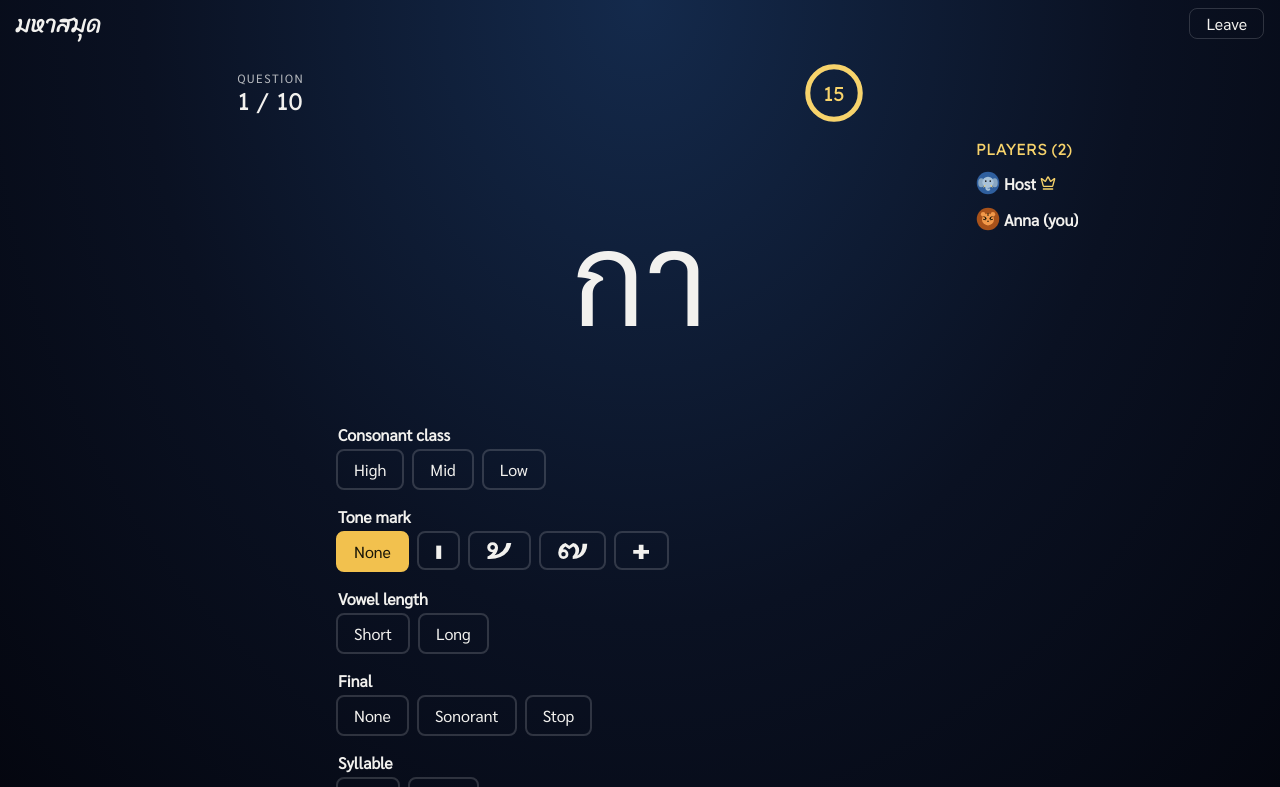
Test case: RoomPage › in the bar › asks before leaving, then leaves the room and goes home
Click the button "Leave". click: (1227, 24)
box: left=1189, top=8, right=1264, bottom=39
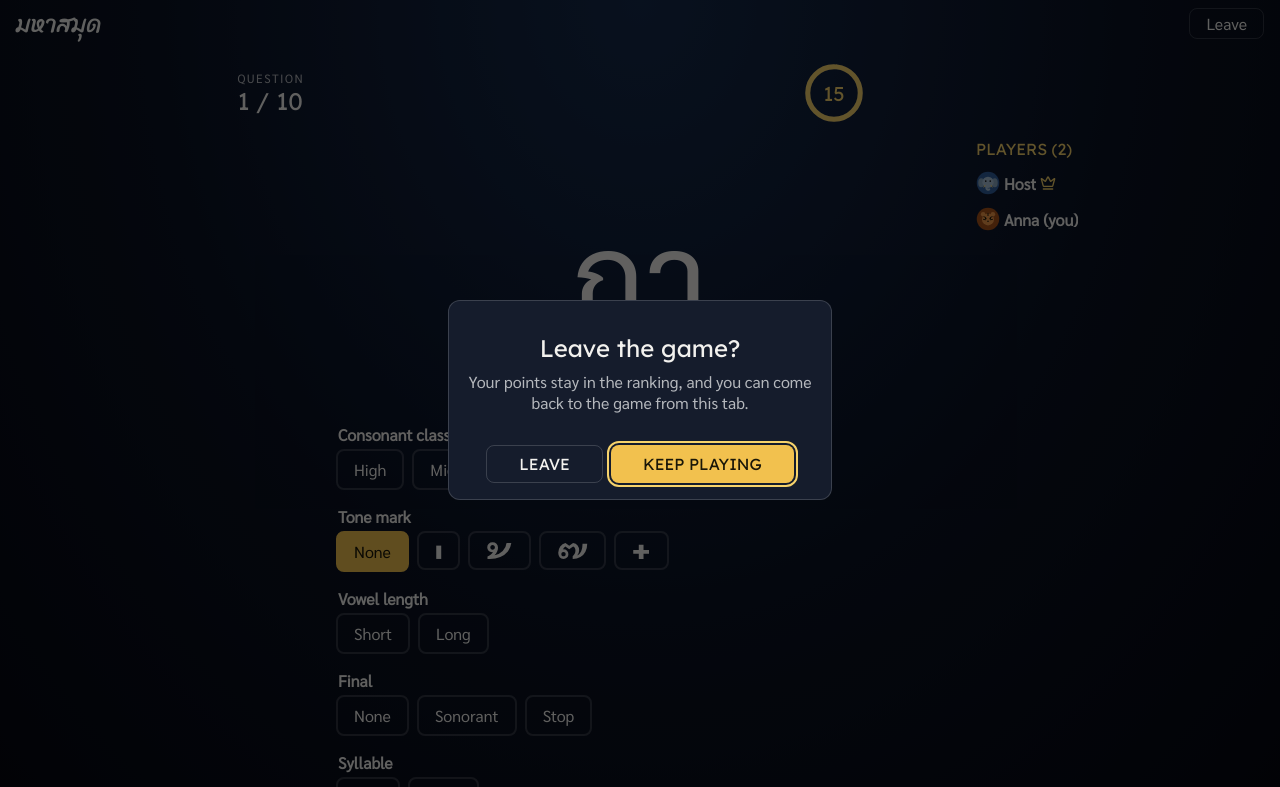
Result: the text "Your points stay in the ranking" is shown at left=468, top=371, right=812, bottom=413
Click the button "Keep playing". click: (702, 464)
box: left=611, top=445, right=794, bottom=483
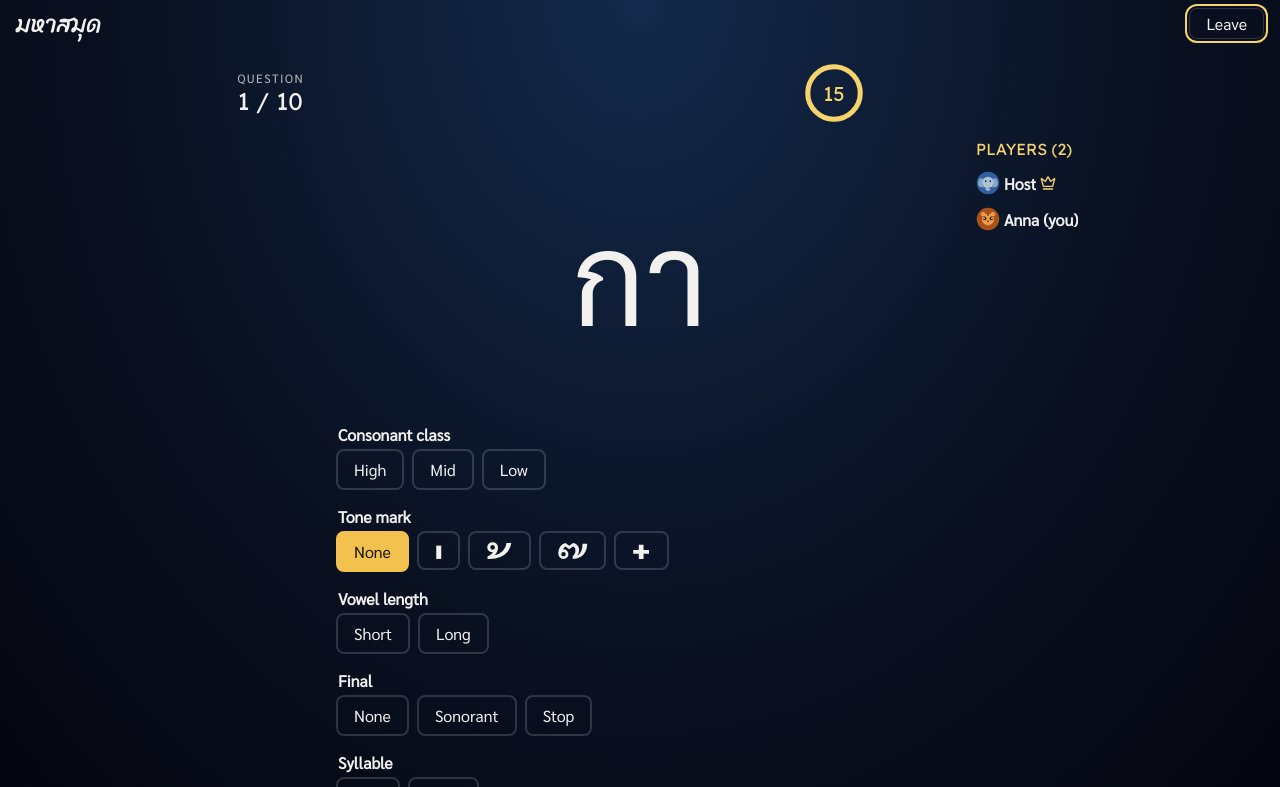
Click the button "Leave". click: (1227, 24)
box: left=1189, top=8, right=1264, bottom=39
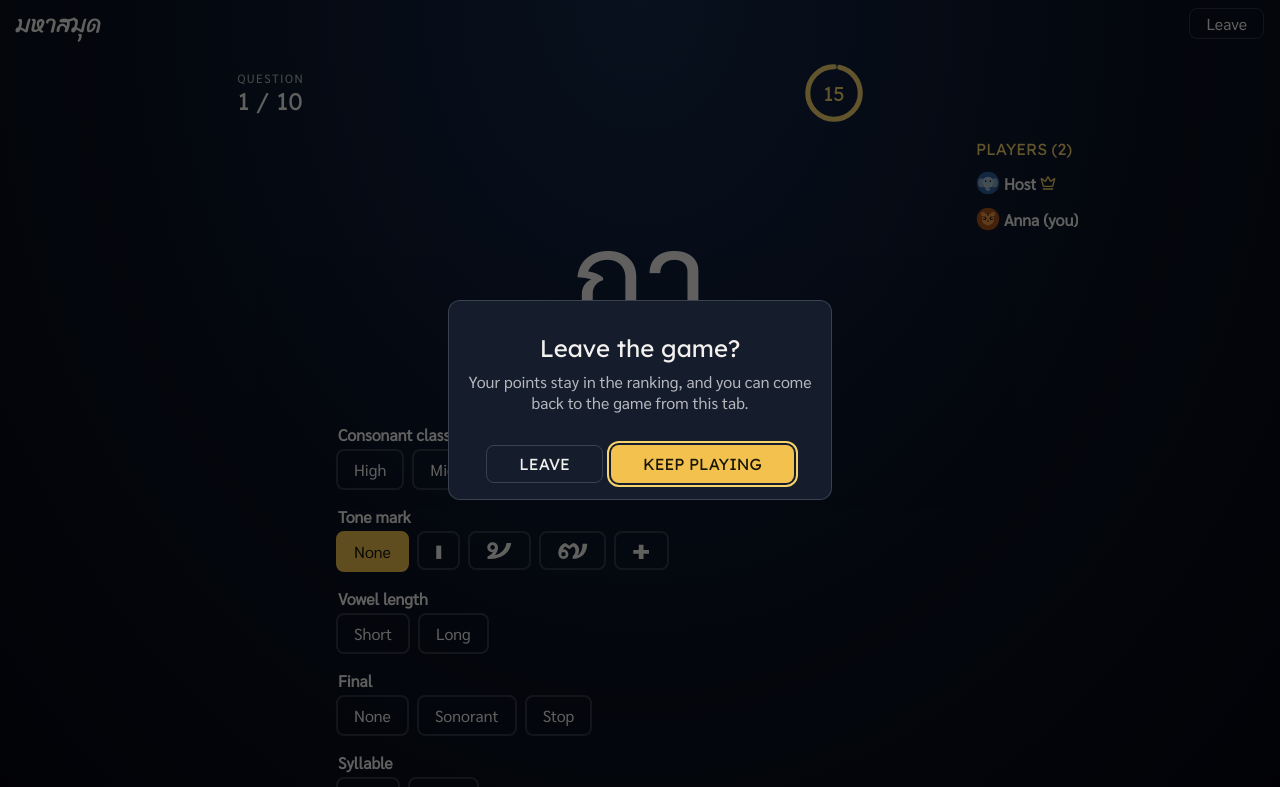
Click the button "Leave". click: (545, 464)
box: left=486, top=445, right=603, bottom=483
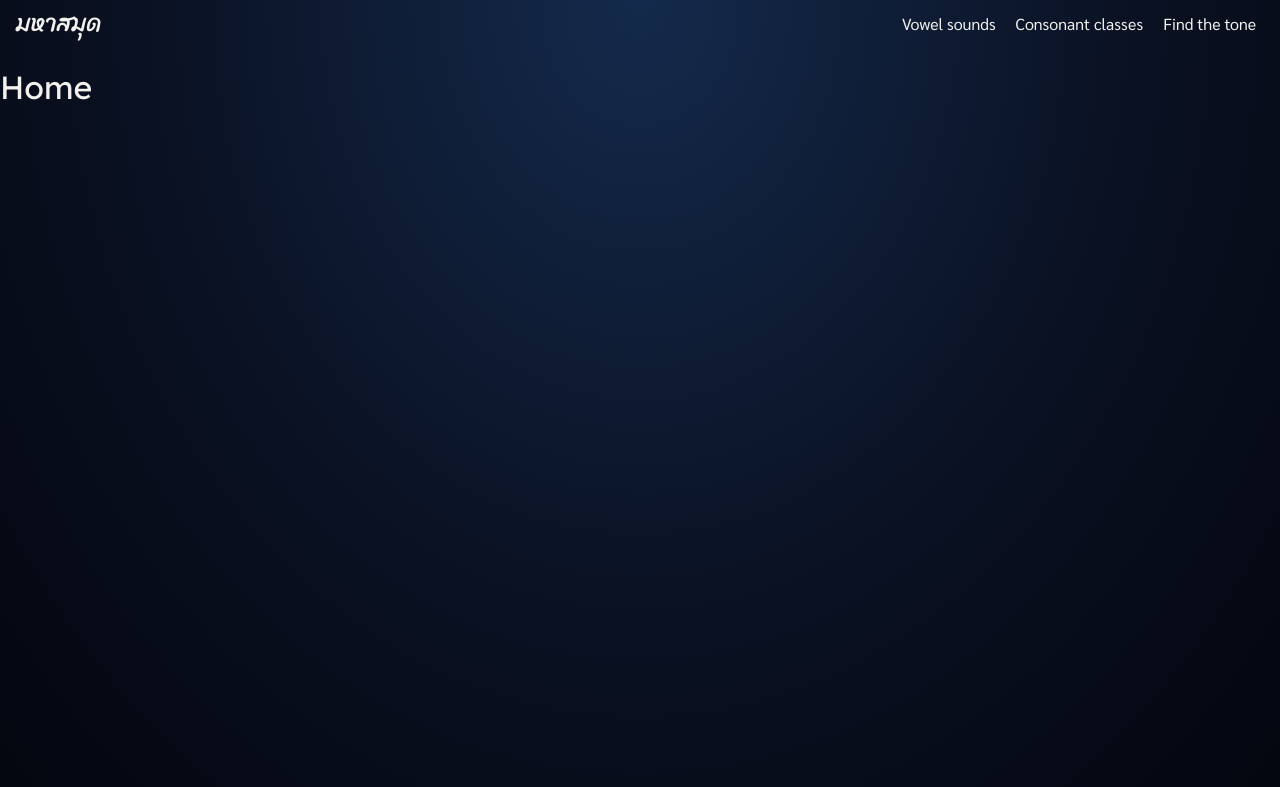
Result: the heading "Home" is shown at left=0, top=67, right=92, bottom=107
